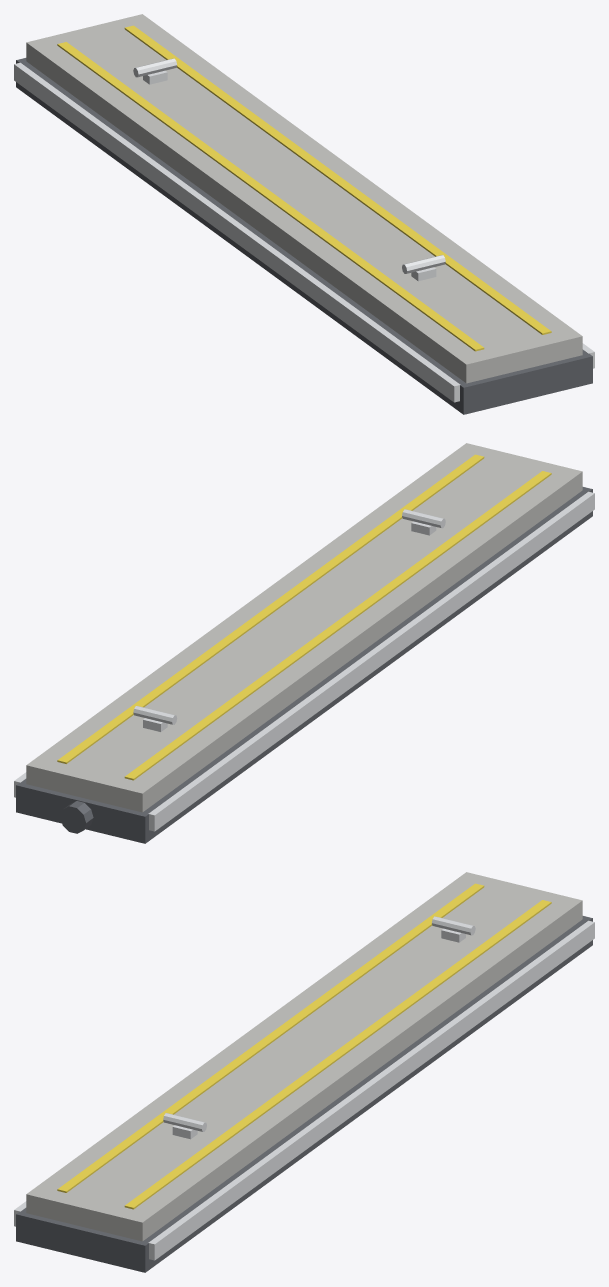
The model's file is marina-and-yacht-club-marina-and-yacht-club-finger-ber-b335deb0__38289.glb.
3 renders of one model, top to bottom at view 1: azimuth 30°, elevation 25°; view 2: azimuth 150°, elevation 25°; view 3: azimuth 330°, elevation 25°, orthographic.
Parts seen in each view (by area): view 1: marina-and-yacht-club-finger-berth-pontoon; view 2: marina-and-yacht-club-finger-berth-pontoon; view 3: marina-and-yacht-club-finger-berth-pontoon.
Part boxes in pixels (x1,y1,x2,y2): marina-and-yacht-club-finger-berth-pontoon: (14, 14, 594, 414); marina-and-yacht-club-finger-berth-pontoon: (14, 443, 594, 843); marina-and-yacht-club-finger-berth-pontoon: (14, 872, 594, 1272).
Size of the model in its own units: 1.09 by 0.4652 by 6.1.
